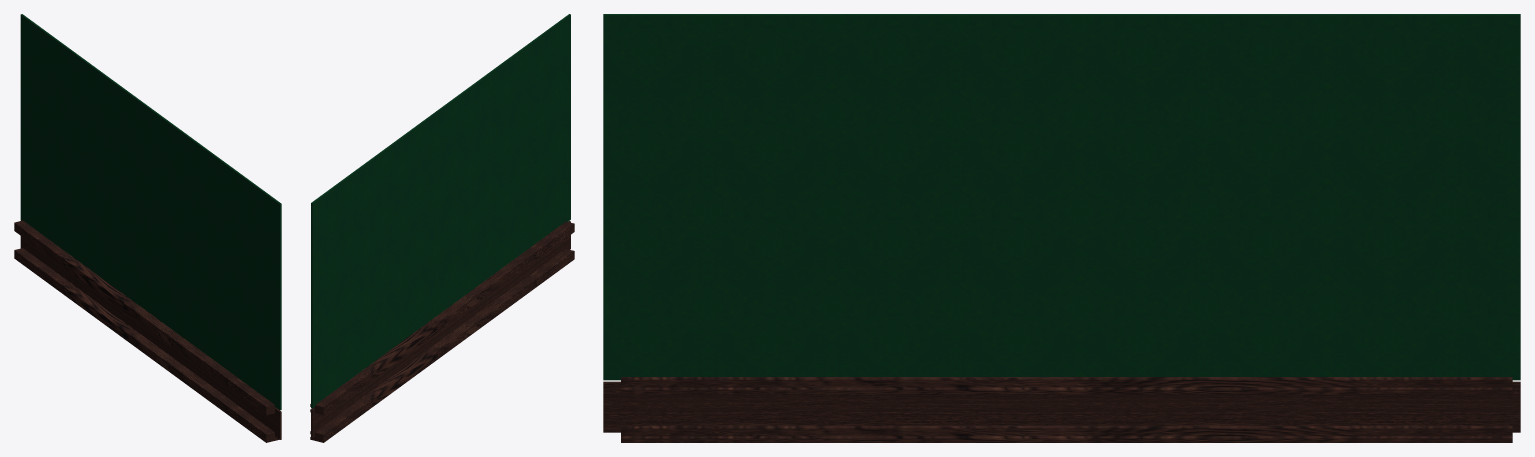
The model's file is Environment_WallpaperWall_Green.glb.
The picture shows the model from 3 angles, left to right: view 1: azimuth 30°, elevation 25°; view 2: azimuth 150°, elevation 25°; view 3: azimuth 270°, elevation 25°; orthographic projection. The views are drawn at different scales.
Parts seen in each view (by area): view 1: Wall B, Cube.011, Cube.012, Wall B.001; view 2: Wall B, Cube.011, Cube.012, Wall B.001; view 3: Wall B, Wall B.001, Cube.011, Cube.012.
Part boxes in pixels (x1,y1,x2,y2): Wall B: [20, 14, 281, 410]; Cube.011: [14, 248, 279, 442]; Cube.012: [14, 220, 276, 415]; Wall B.001: [20, 236, 281, 439]; Wall B: [311, 14, 570, 408]; Cube.011: [310, 249, 574, 442]; Cube.012: [310, 221, 574, 415]; Wall B.001: [311, 221, 570, 437]; Wall B: [603, 14, 1520, 380]; Wall B.001: [603, 381, 1520, 432]; Cube.011: [621, 425, 1512, 442]; Cube.012: [621, 377, 1512, 394].
Size of the model in its own units: 1.16 by 19.65 by 38.45.
3 materials, 3 textured.
